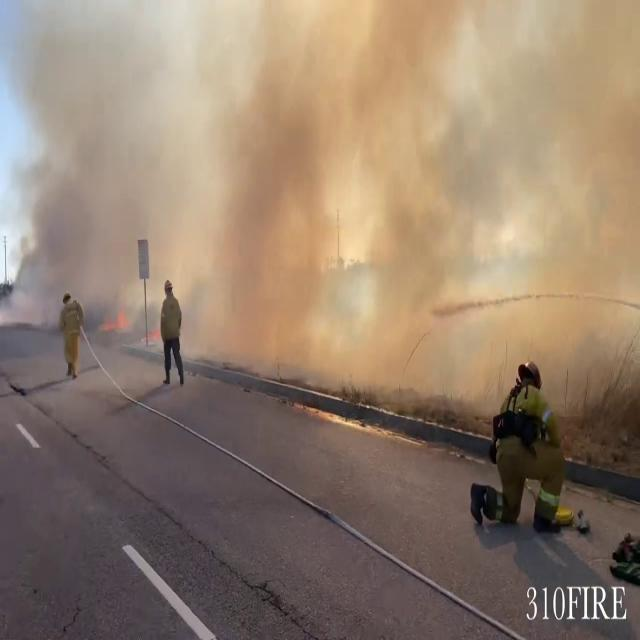Smoke: (21, 0, 638, 431)
